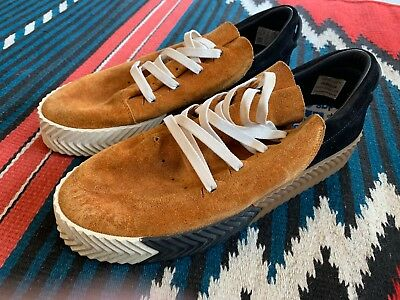adidas AW Skate Sand: (50, 46, 383, 270), (32, 1, 307, 163)
